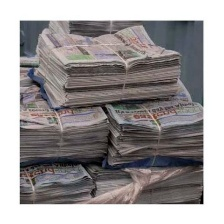book: (30, 27, 183, 108), (103, 73, 224, 171), (8, 85, 112, 163), (85, 158, 206, 207), (17, 153, 95, 206)
